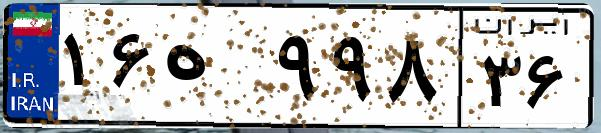1: (57, 26, 110, 100)
3: (475, 38, 525, 113)
6: (525, 38, 570, 115), (110, 28, 158, 98)
8: (385, 28, 445, 110)
9: (270, 28, 330, 110), (330, 28, 385, 110)
ه: (158, 20, 270, 120)
